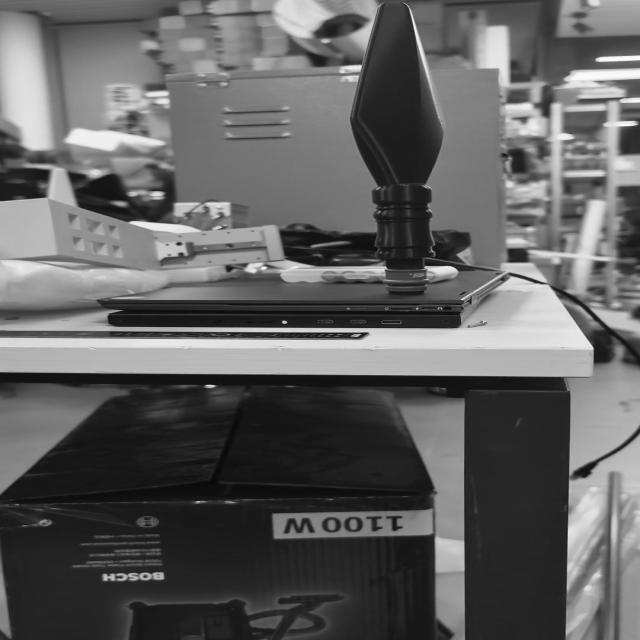base: (382, 268, 428, 296)
